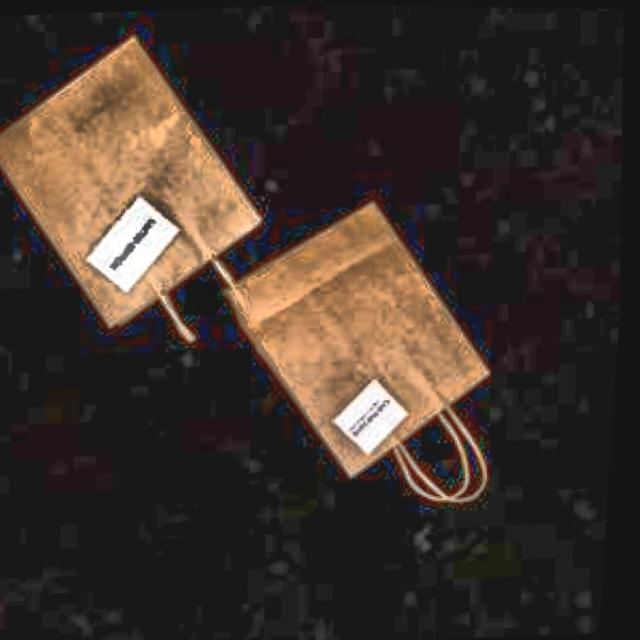Paper-bag: (215, 183, 526, 531), (0, 18, 277, 371)
